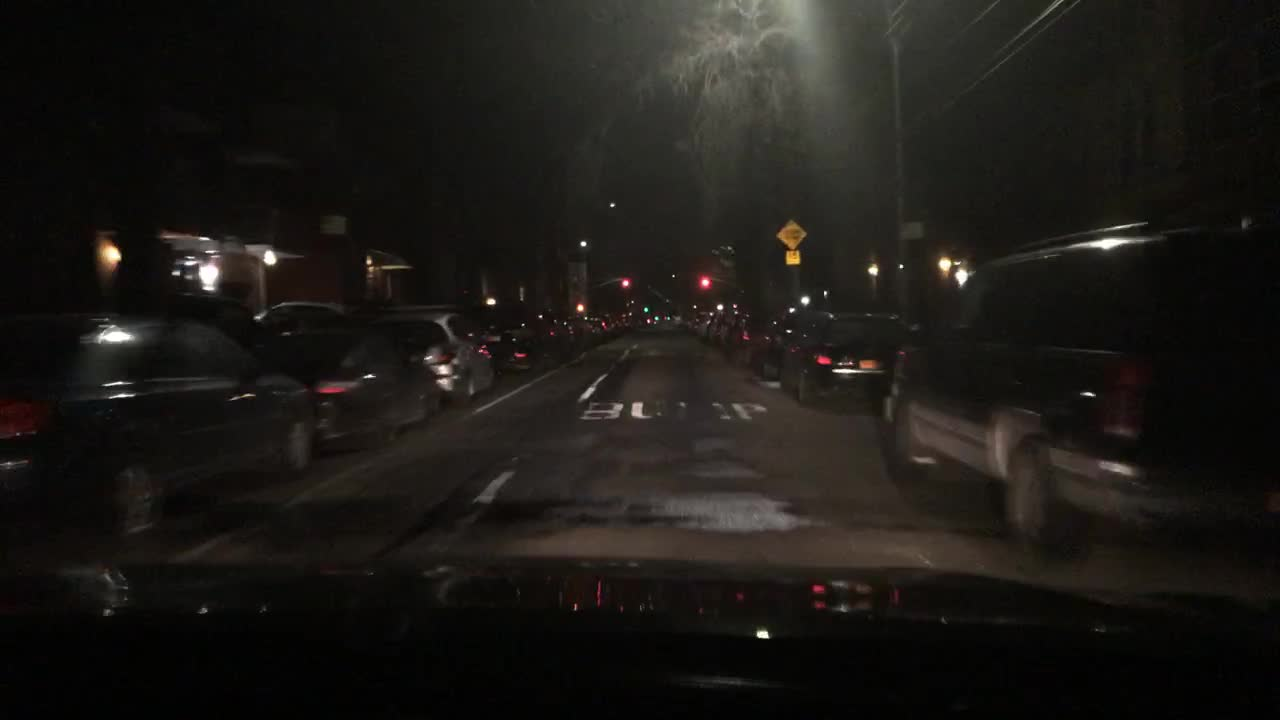car: (883, 219, 1278, 553), (3, 310, 317, 541), (273, 329, 444, 451), (777, 311, 903, 403), (374, 312, 498, 405), (478, 314, 544, 379), (756, 317, 798, 381), (254, 298, 347, 325), (730, 314, 761, 365), (535, 311, 562, 359), (563, 315, 583, 354), (717, 312, 736, 345), (582, 321, 597, 347), (693, 314, 708, 337), (706, 314, 719, 340), (625, 313, 639, 333), (598, 314, 609, 338), (611, 316, 625, 334), (642, 314, 656, 327)
traffic light: (621, 278, 627, 294), (702, 276, 709, 288)
traffic sign: (776, 220, 807, 249), (785, 250, 802, 263)
